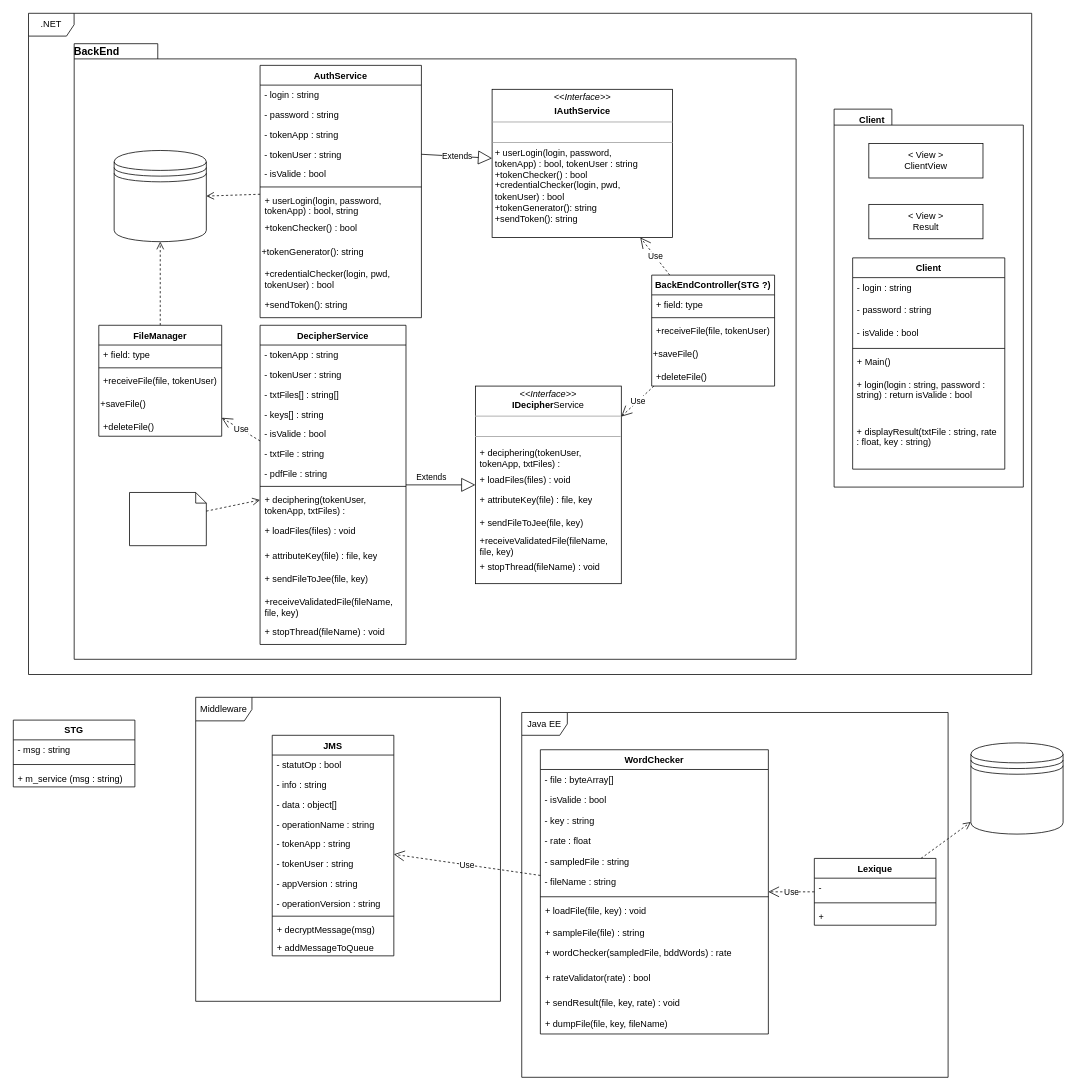
The diagram is 1077 pixels wide and 1091 high, and some of its shapes have lost their labels. The centre of each missing label's shape, as x and y in pixels:
"Oracle" goes at pixel 1016 788.
"SqlServer" goes at pixel 159 196.
"Threader Maximum 4 thread Asynchrone" goes at pixel 167 519.
